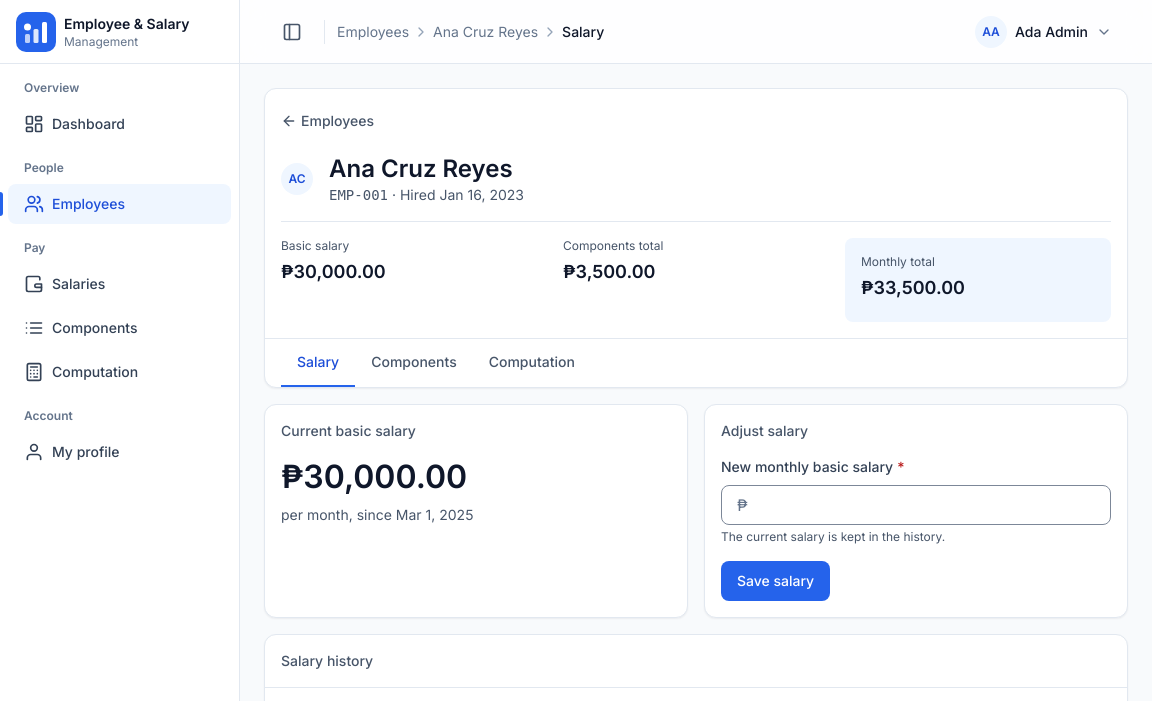
Employee workspace › refreshes the summary and the Computation tab after a salary is saved
This screenshot has width=1152, height=701.
Expected: the heading "Ana Cruz Reyes" is shown, x1=329 y1=153 x2=524 y2=185
Expected: the text "₱33,500.00" is shown, x1=861 y1=277 x2=965 y2=298
In the field labelled "New monthly basic salary*": (916, 505) x1=721 y1=485 x2=1111 y2=525, type "40000"
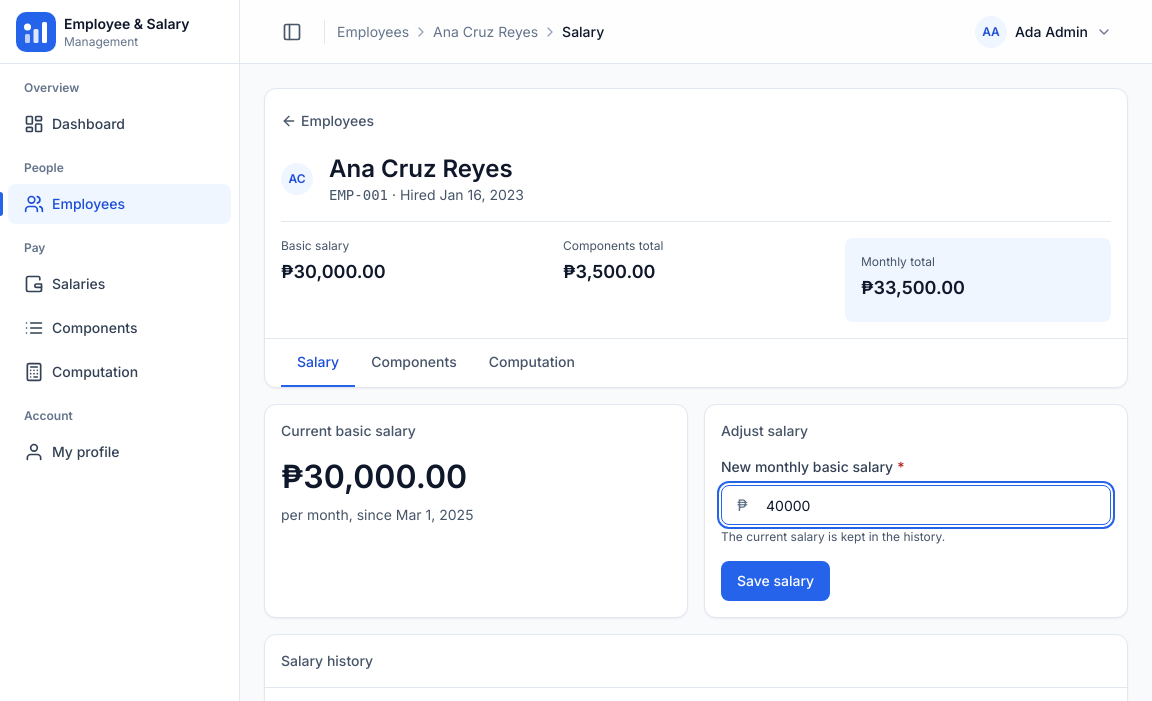
Click the button "Save salary": click(776, 581) x1=721 y1=561 x2=830 y2=601
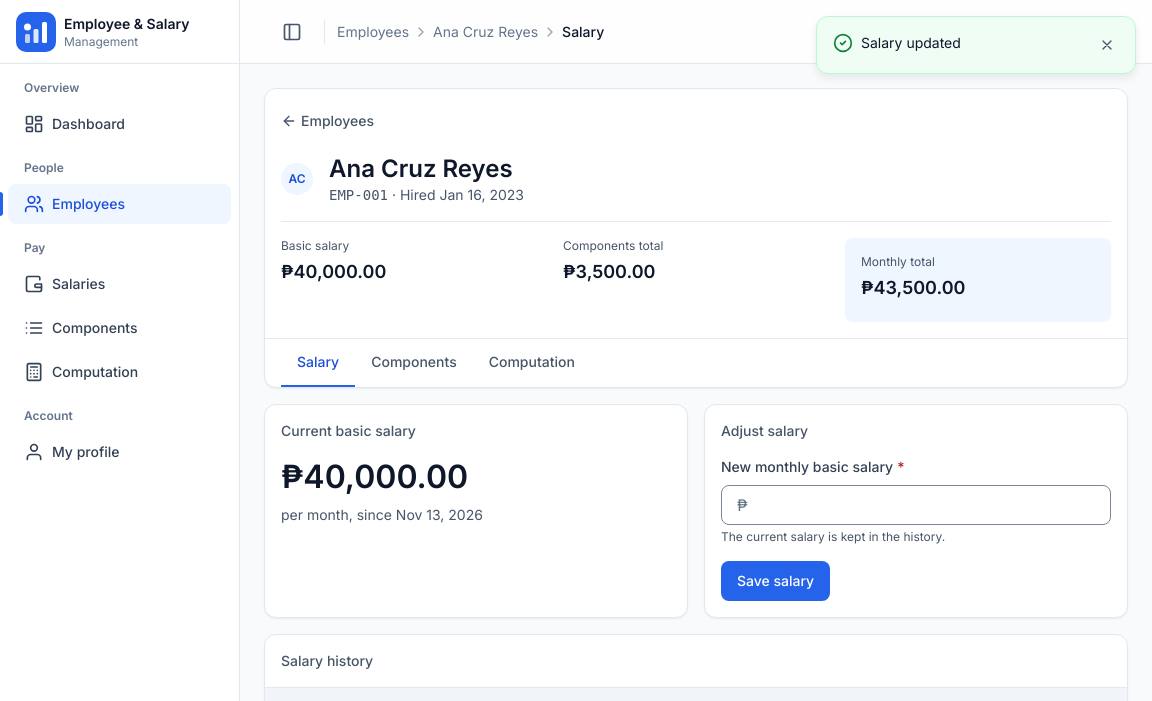
Result: the text "₱43,500.00" is shown at x1=861 y1=277 x2=966 y2=298
Click the link "Computation" below "₱3,500.00": click(532, 362) x1=489 y1=353 x2=575 y2=370
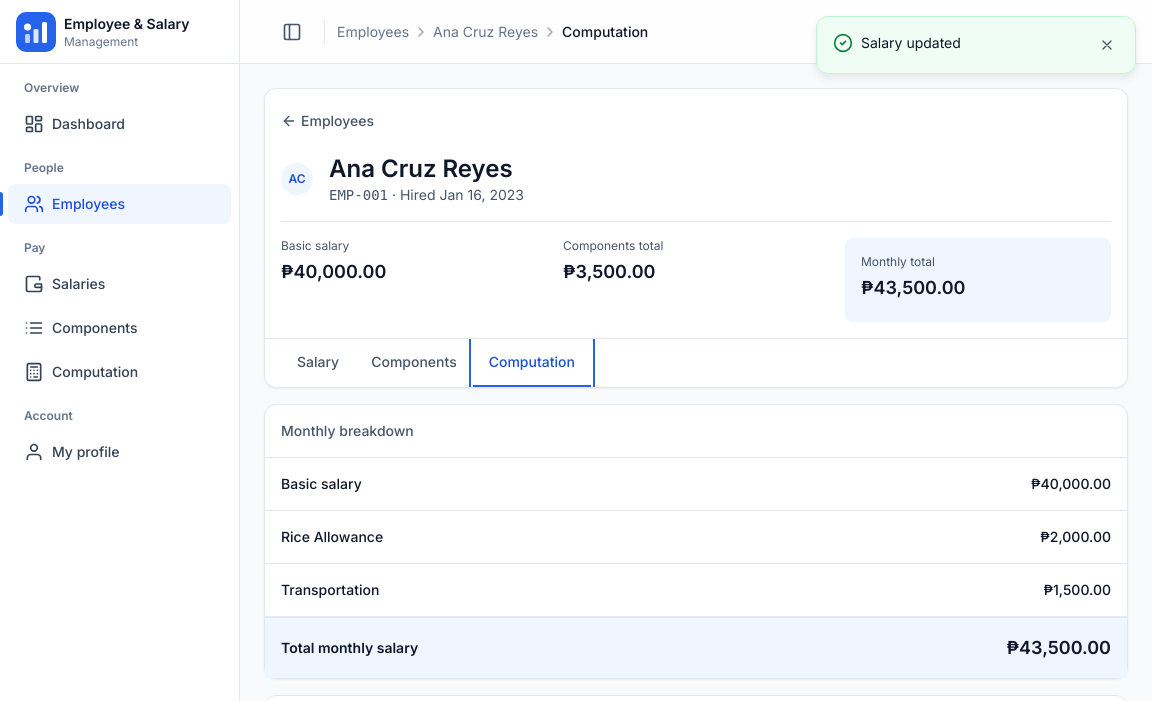
Result: the text "Total monthly salary" is shown at x1=281 y1=638 x2=418 y2=658
Result: the text "₱43,500.00" in the row of "Total monthly salary" is shown at x1=1006 y1=637 x2=1111 y2=658
